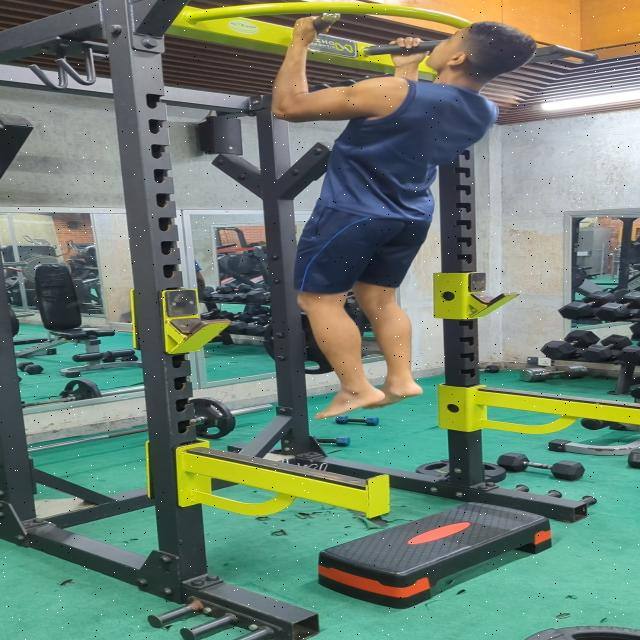Normal_PullUps: (266, 16, 540, 421)
